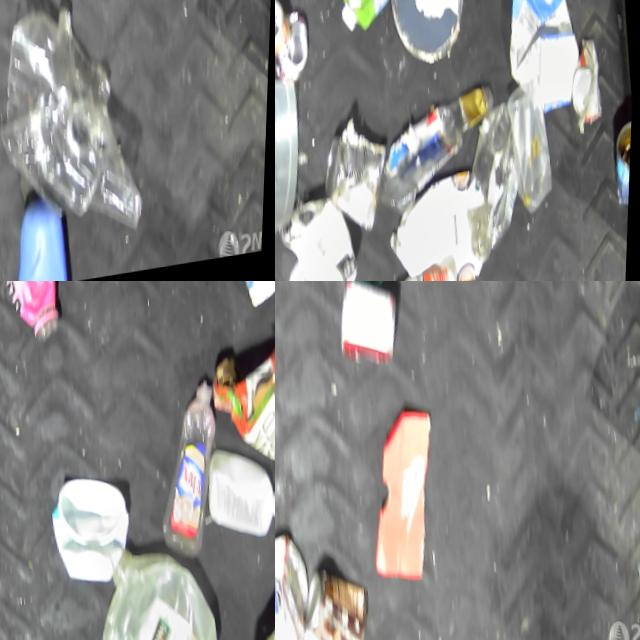can: (320, 127, 396, 242), (278, 194, 366, 281), (301, 564, 382, 640), (568, 45, 609, 138), (275, 0, 316, 89)
milk_jug: (91, 539, 232, 640), (385, 172, 497, 281), (499, 0, 589, 124), (50, 475, 139, 594)
non_white_jug: (275, 526, 322, 640), (331, 0, 420, 40)
plastic_bottle: (371, 89, 509, 221), (150, 382, 232, 568)
